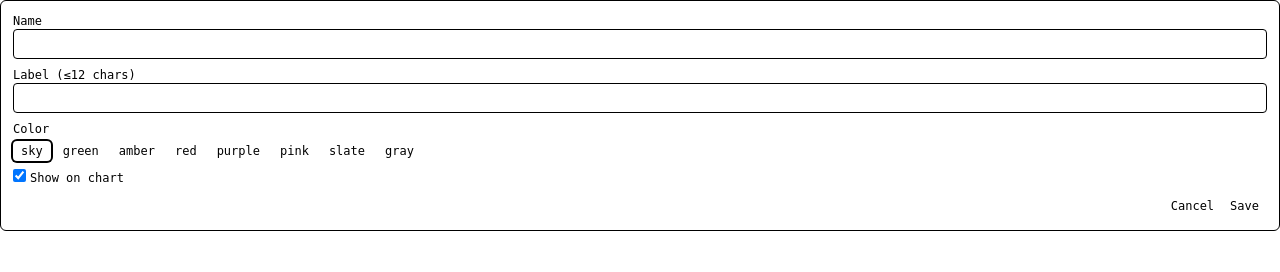
Test: CategoryForm › rejects invalid name
Type "Bad Name" into the field labelled "Name" at (640,44), box [13,29,1267,59]
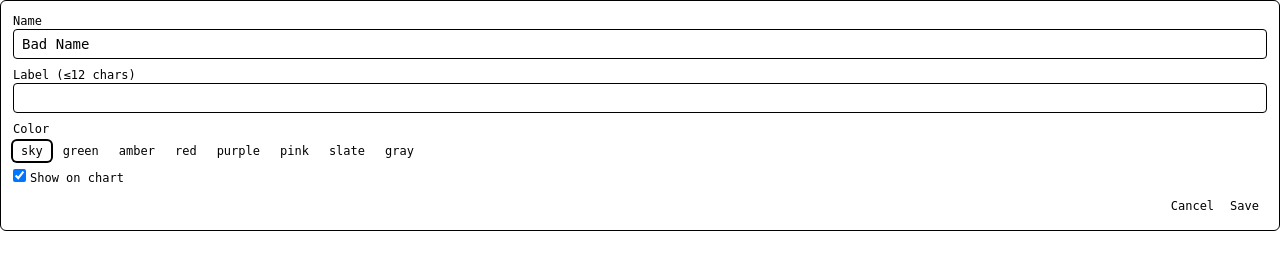
Type "OK" into the field labelled "Label (≤12 chars)" at (640,98), box [13,83,1267,113]
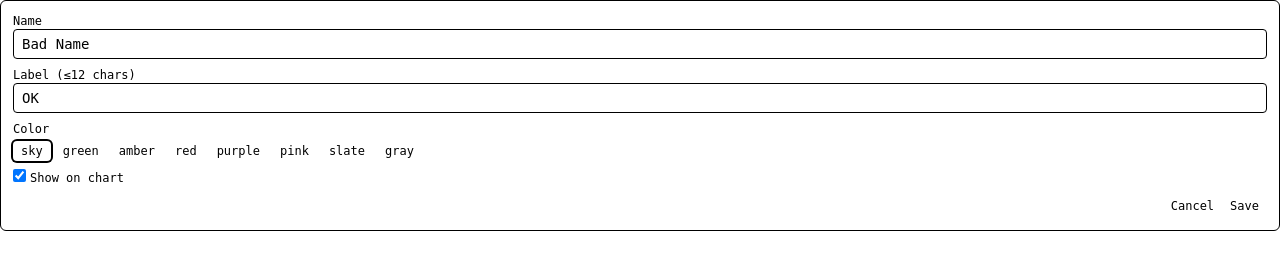
Click the button "Save" at (1245,206), box [1222,194,1267,218]
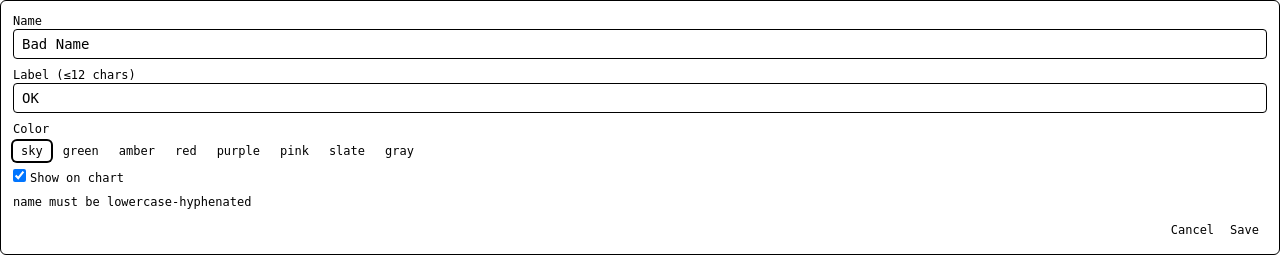
Now the text "name must be lowercase-hyphenated" is shown, box [13,195,251,209]
